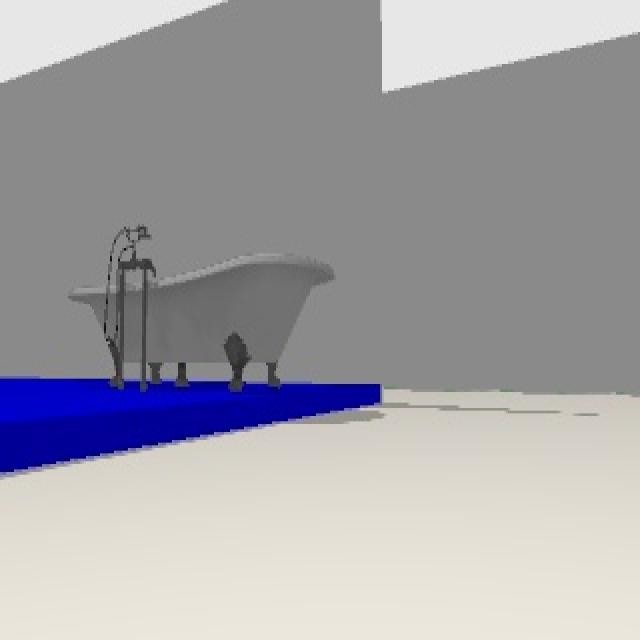bathtub: (69, 222, 335, 394)
